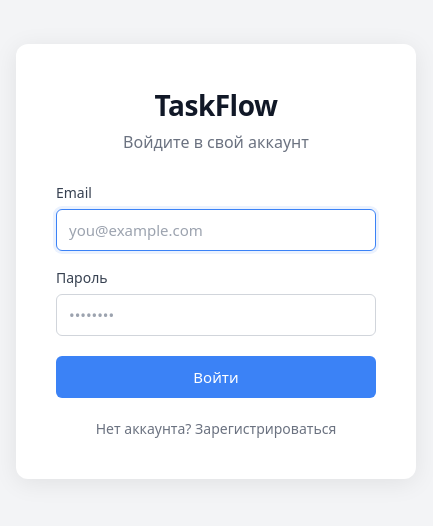
Test case: LoginForm — валидация › показывает ошибку при некорректном email
Type "notanemail" into the field labelled "Email" at (216, 230), box x1=56 y1=208 x2=376 y2=250
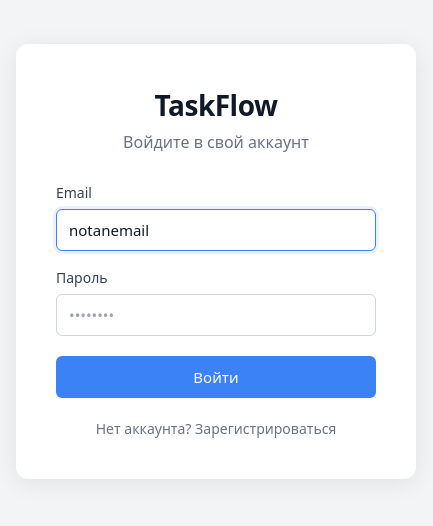
Click the button "Войти" at (216, 376), box x1=56 y1=356 x2=376 y2=398
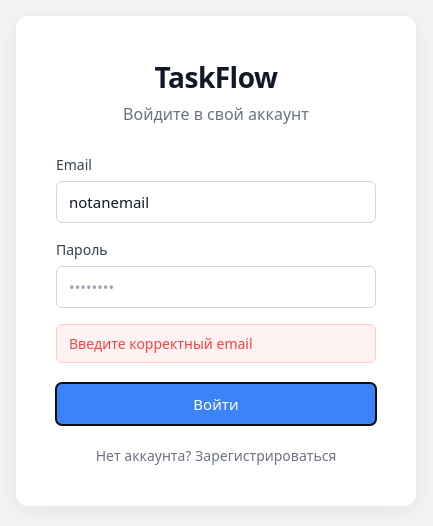
Check: the message shows "корректный email", box x1=69 y1=334 x2=253 y2=353
